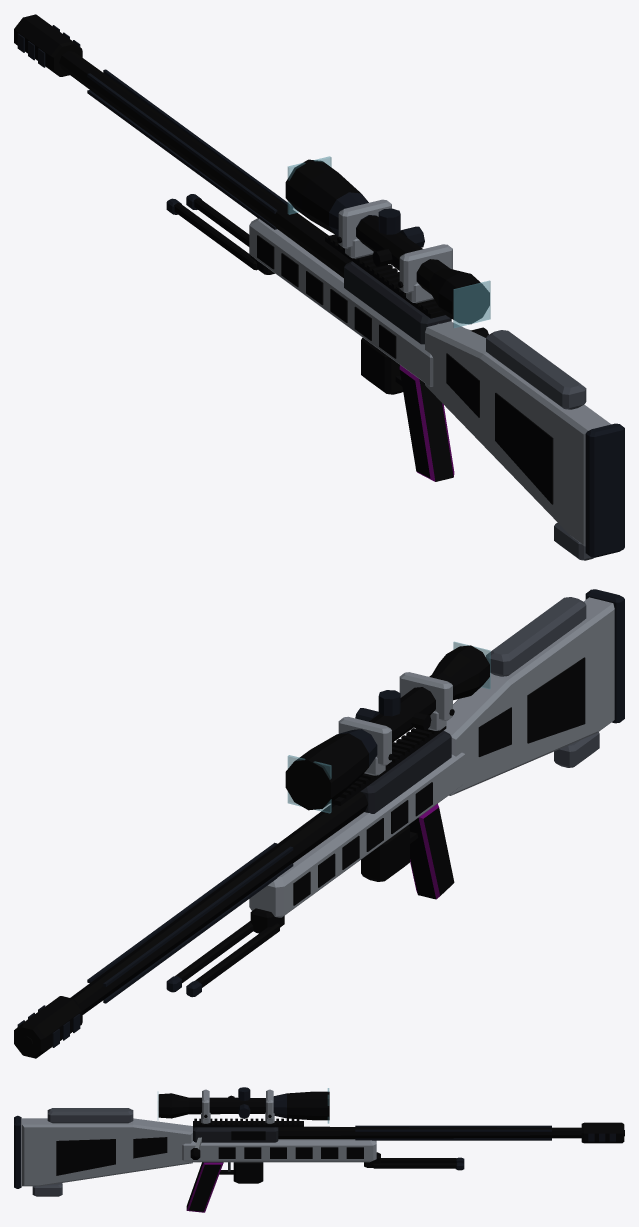
File: SM_Wep_SniperRifle.glb
3 renders of one model, top to bottom at view 1: azimuth 30°, elevation 25°; view 2: azimuth 150°, elevation 25°; view 3: azimuth 270°, elevation 25°, orthographic. The views are drawn at different scales.
Parts seen in each view (by area): view 1: SM_Wep_SniperRifle, SM_Wep_SniperRifle_Mag; view 2: SM_Wep_SniperRifle, SM_Wep_SniperRifle_Mag; view 3: SM_Wep_SniperRifle, SM_Wep_SniperRifle_Mag.
Part boxes in pixels (x1,y1,x2,y2): SM_Wep_SniperRifle: (14, 14, 624, 560); SM_Wep_SniperRifle_Mag: (361, 337, 403, 394); SM_Wep_SniperRifle: (14, 589, 624, 1058); SM_Wep_SniperRifle_Mag: (361, 825, 409, 881); SM_Wep_SniperRifle: (14, 1087, 624, 1212); SM_Wep_SniperRifle_Mag: (233, 1162, 263, 1183).
Size of the model in its own units: 0.113 by 0.312 by 1.43.
2 materials, 2 textured.
